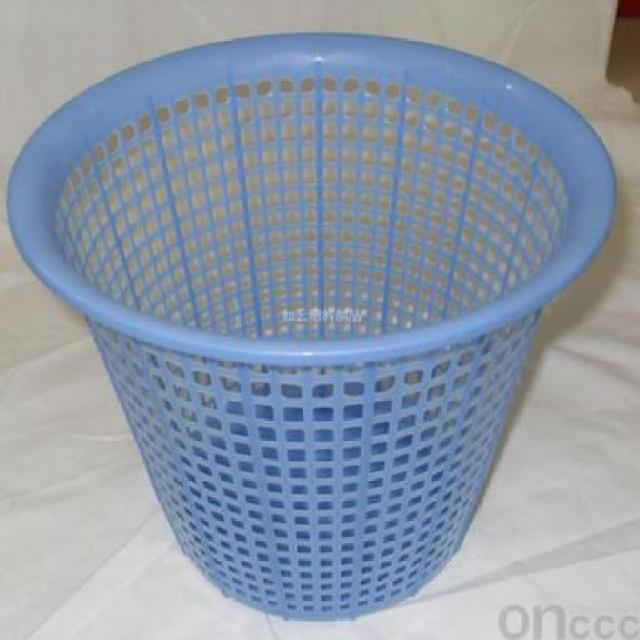dustbin: (0, 25, 624, 629)
